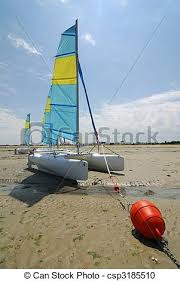buoy: (129, 200, 166, 241)
